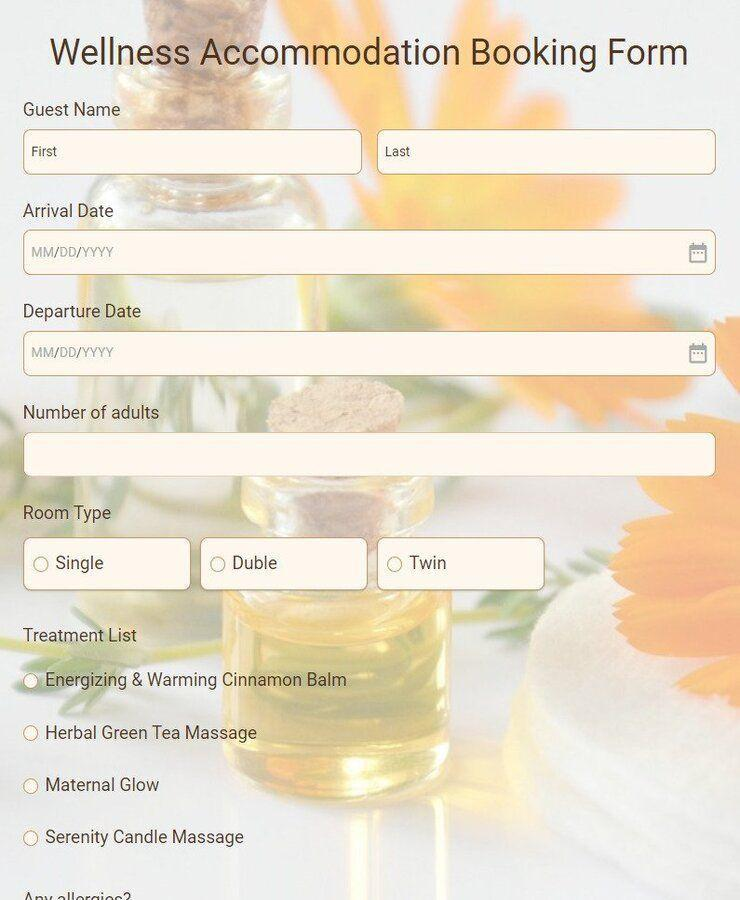input: (25, 229, 717, 276), (25, 334, 720, 378), (27, 435, 715, 479), (381, 129, 715, 175), (23, 130, 364, 175)
label: (45, 28, 704, 77), (43, 667, 351, 698), (47, 723, 261, 746), (23, 398, 162, 433), (48, 827, 247, 851), (18, 621, 149, 650), (16, 300, 151, 325), (41, 775, 172, 798), (17, 503, 126, 529), (23, 197, 115, 224), (17, 103, 130, 121), (55, 552, 110, 575), (231, 555, 281, 576), (411, 552, 450, 576)
radio: (23, 829, 42, 851), (386, 555, 406, 575), (22, 724, 43, 743), (211, 556, 228, 578), (23, 671, 40, 693), (32, 555, 50, 575), (23, 777, 40, 796)
